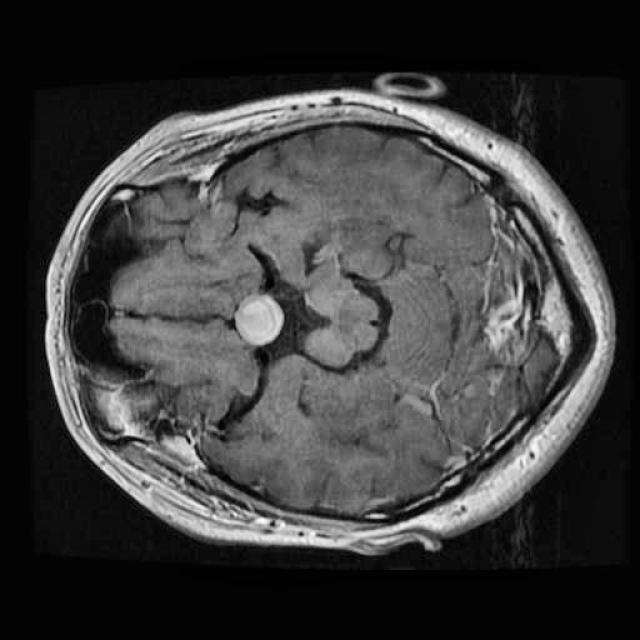Tumor: (225, 275, 296, 358)
